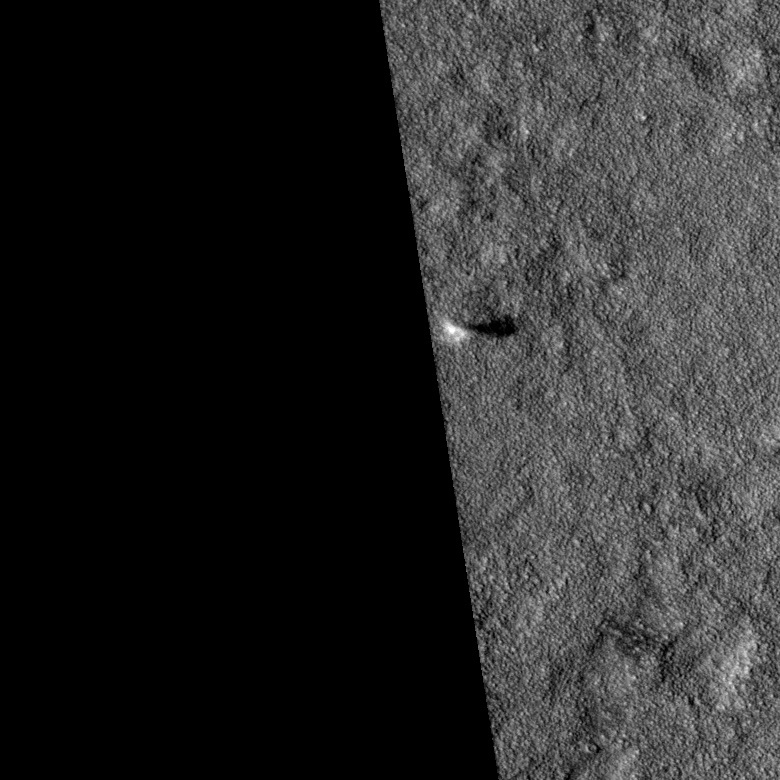dust_devil: (439, 314, 520, 346)
